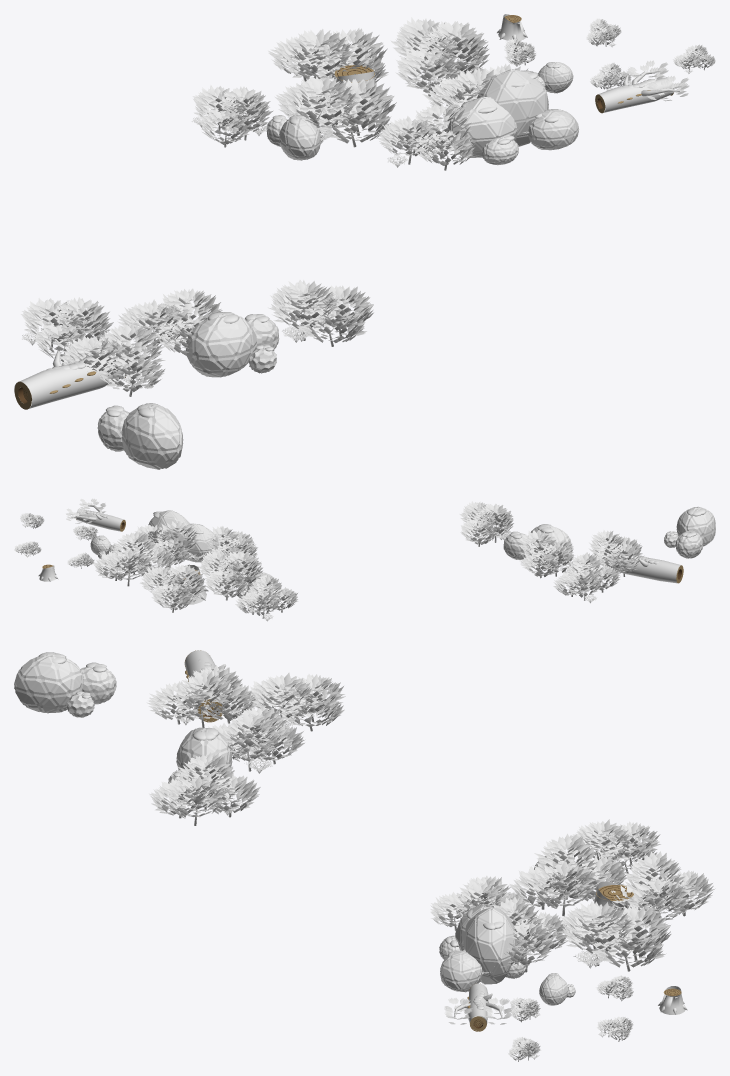
The model's file is SM_NW_Nature_1_2_Macro.fbx.
3 views of the same model, one above another, from view 1: azimuth 30°, elevation 25°; view 2: azimuth 150°, elevation 25°; view 3: azimuth 270°, elevation 25° (orthographic). The views are drawn at different scales.
Parts seen in each view (by area): view 1: SM_NW_Nature_1_2_Macro; view 2: SM_NW_Nature_1_2_Macro; view 3: SM_NW_Nature_1_2_Macro.
Boxes of the visible parts, x1,y1,x2,y2 form: SM_NW_Nature_1_2_Macro: (14, 14, 715, 469); SM_NW_Nature_1_2_Macro: (14, 498, 715, 621); SM_NW_Nature_1_2_Macro: (14, 650, 715, 1061).
Bounding box in the file's own units: 2901 × 2153 × 283.
